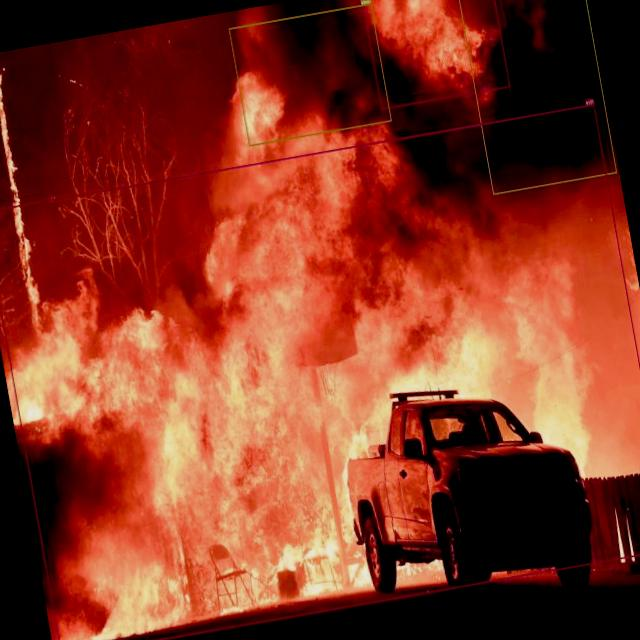fire: (0, 102, 640, 640), (360, 0, 510, 109)
smoke: (454, 0, 617, 195), (228, 2, 392, 146)
